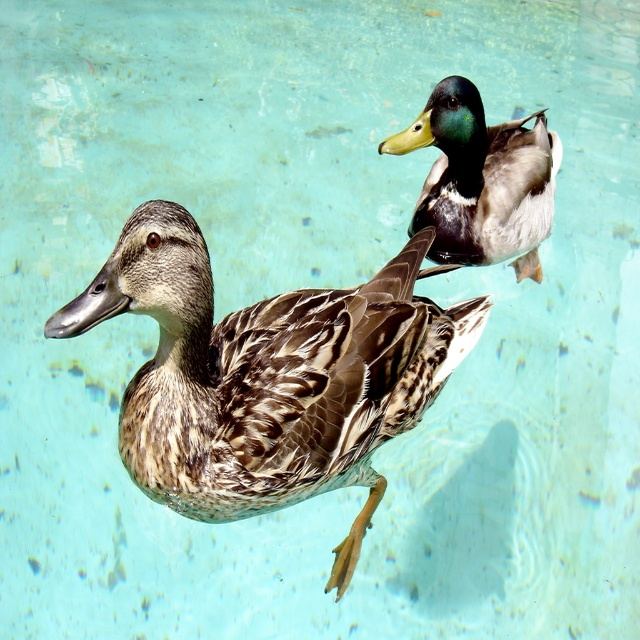Duck: (45, 200, 486, 607), (372, 72, 563, 304)
